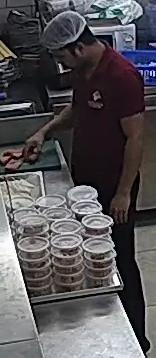no_apron: (68, 50, 136, 181)
